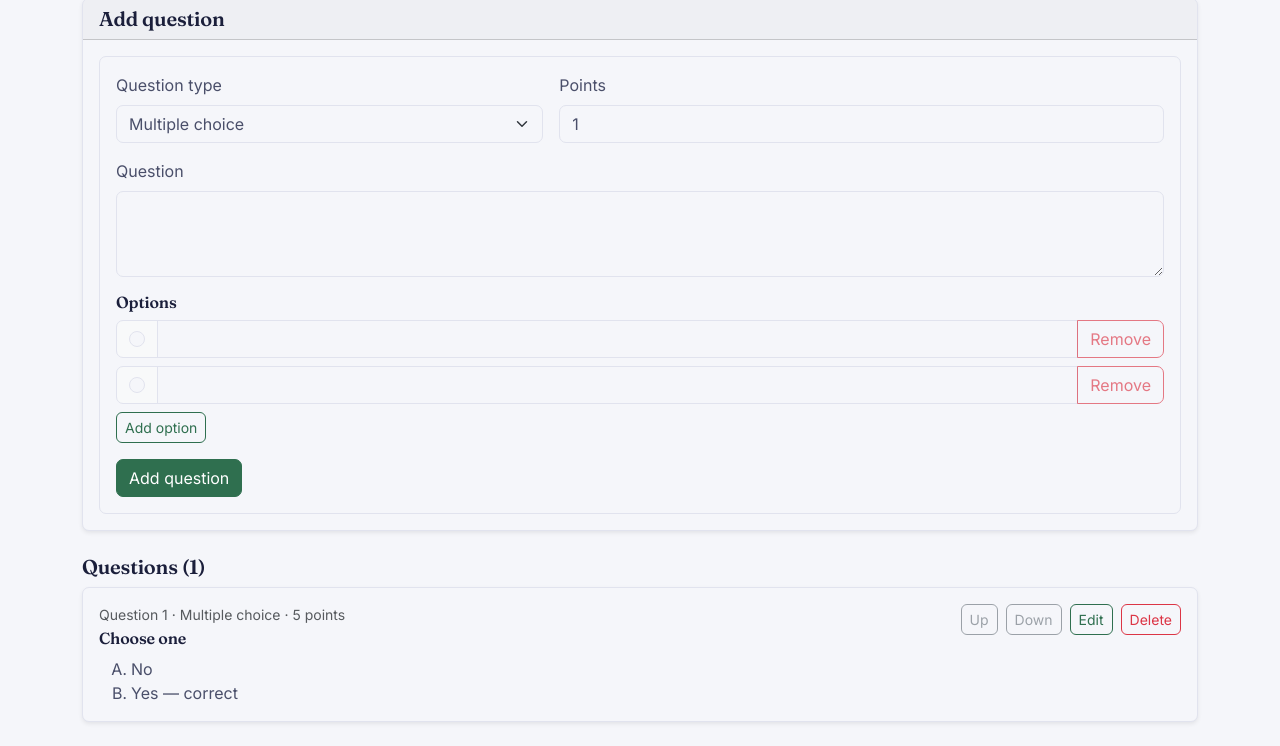
it: question creation and updates › updates a multiple choice question through the service with a clean final payload
(page scrolled)
Check: the heading "Add question" is shown, box [99,6,224,31]
Click the button with aria-label "Edit question 1" at (1091,620), box [1070,604,1113,635]
(page scrolled)
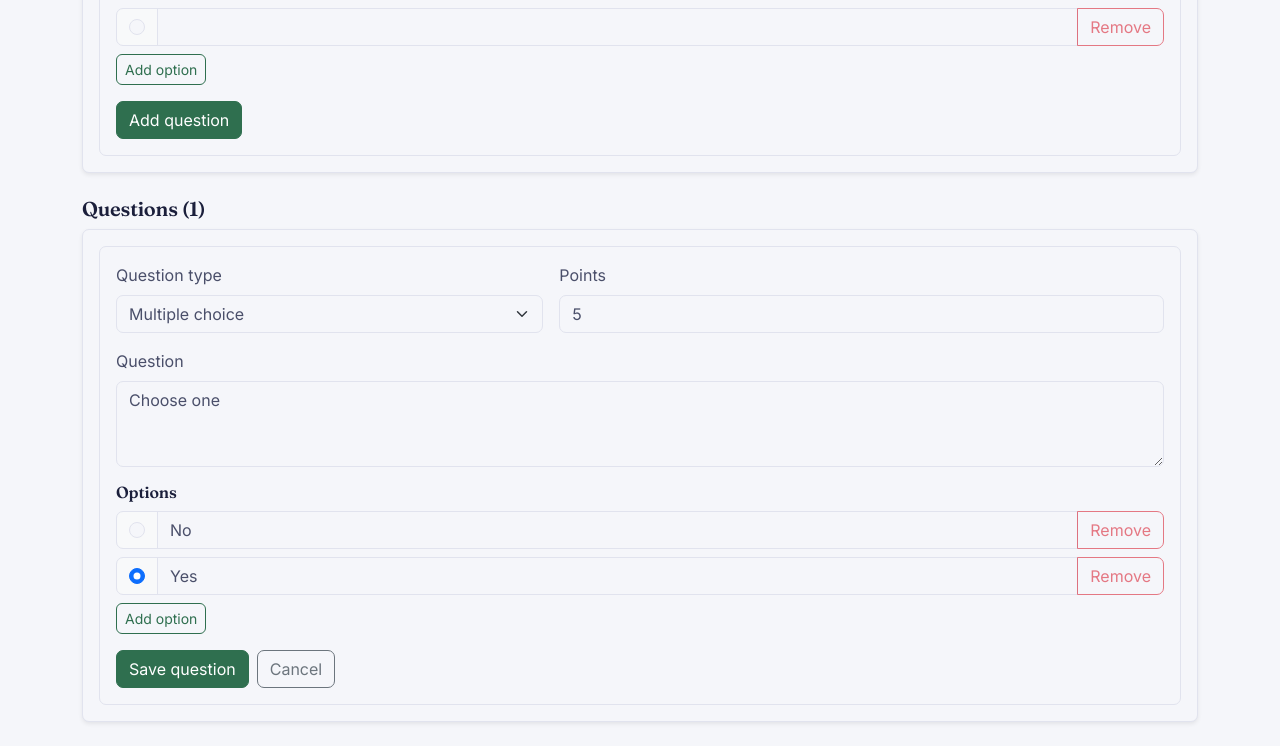
Click the button "Save question" at (182,669), box [116,650,249,688]
(page scrolled)
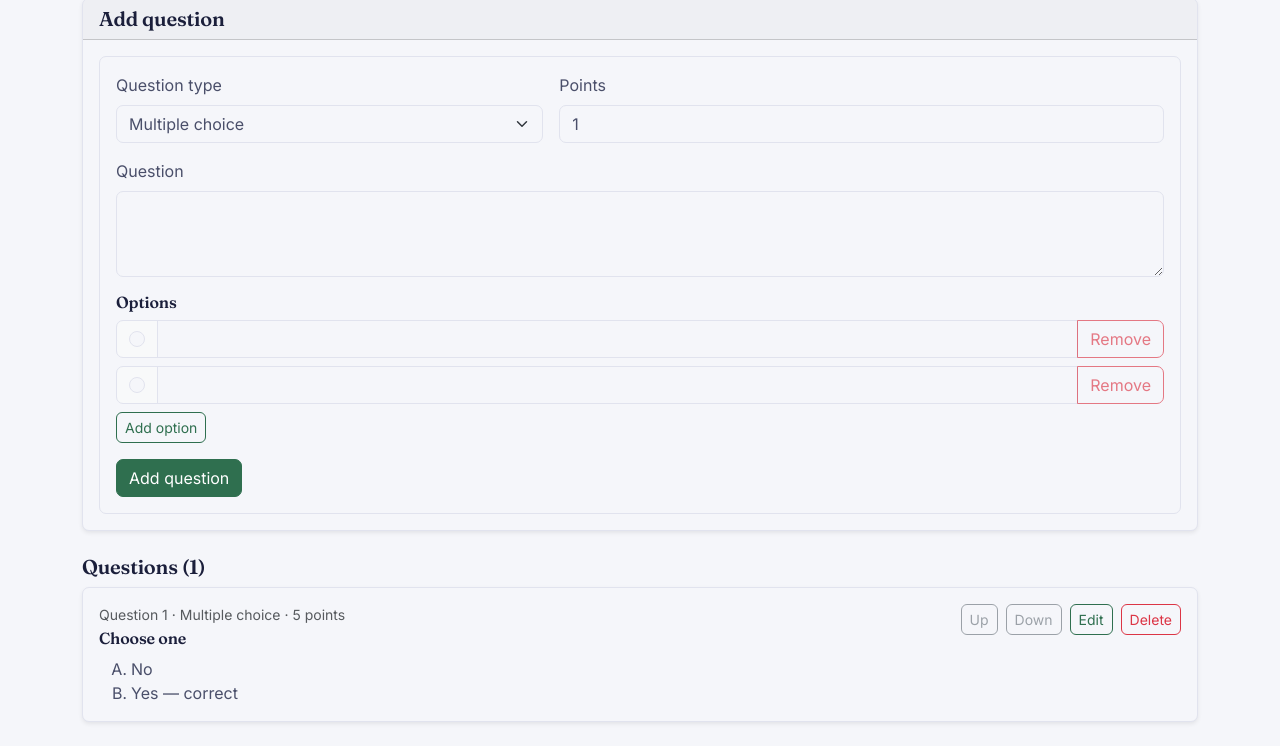
Check: the heading "Choose one" is shown, box [99,628,186,648]
